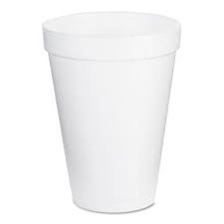paper_cup: (37, 6, 185, 217)
